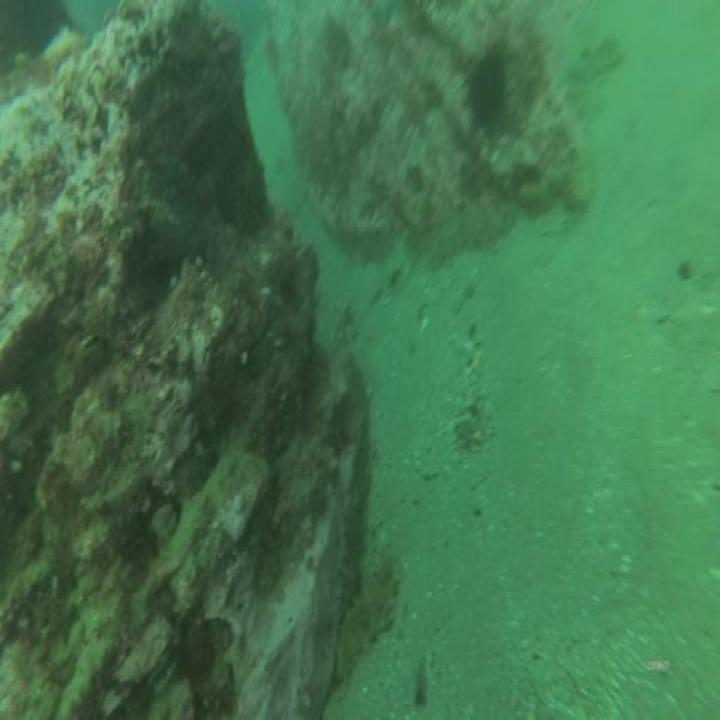echinus: (461, 32, 516, 142)
holothurian: (334, 537, 405, 675), (564, 26, 626, 90)
